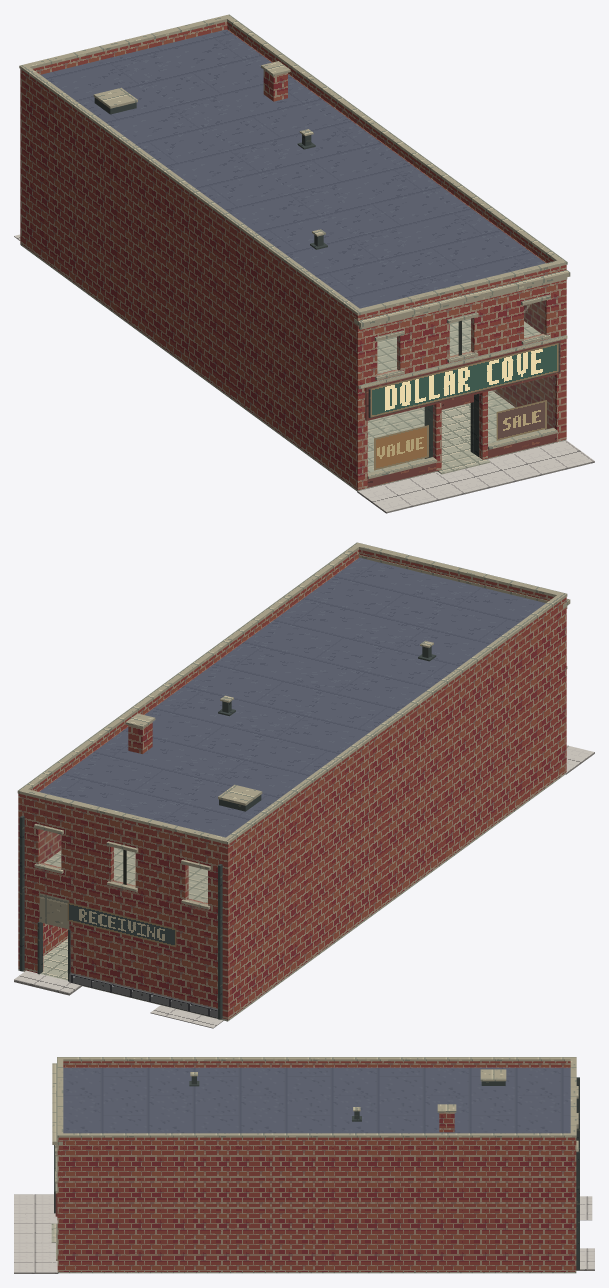
Rendered from marlow-2000-far.glb.
3 renders of one model, top to bottom at view 1: azimuth 30°, elevation 25°; view 2: azimuth 150°, elevation 25°; view 3: azimuth 270°, elevation 25°, orthographic. The views are drawn at different scales.
Visible parts, largest first — view 1: building_shell, roof_and_parapet, Shared street sidewalk, sign_name, sign_value, sign_sale; view 2: building_shell, roof_and_parapet, sign_receiving, Rear receiving pad, lot; view 3: building_shell, roof_and_parapet, Shared street sidewalk, Rear receiving pad, lot.
Part boxes in pixels (x1,y1,x2,y2): building_shell: [20, 29, 567, 491]; roof_and_parapet: [19, 14, 570, 329]; Shared street sidewalk: [357, 440, 594, 513]; sign_name: [370, 343, 558, 417]; sign_value: [374, 425, 428, 470]; sign_sale: [496, 400, 546, 440]; building_shell: [18, 557, 567, 1021]; roof_and_parapet: [17, 542, 570, 854]; sign_receiving: [67, 902, 176, 947]; Rear receiving pad: [14, 970, 81, 995]; lot: [150, 1005, 223, 1028]; building_shell: [51, 1067, 579, 1273]; roof_and_parapet: [52, 1057, 576, 1147]; Shared street sidewalk: [14, 1194, 58, 1273]; Rear receiving pad: [576, 1248, 594, 1270]; lot: [580, 1196, 592, 1220].
Size of what is drawn, in the model's own units: 10.05 by 9.06 by 31.36.
Materials: 10 (10 with a texture image).
